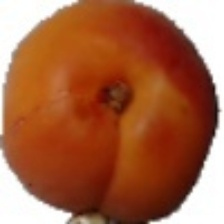apricot: (0, 20, 200, 188)
